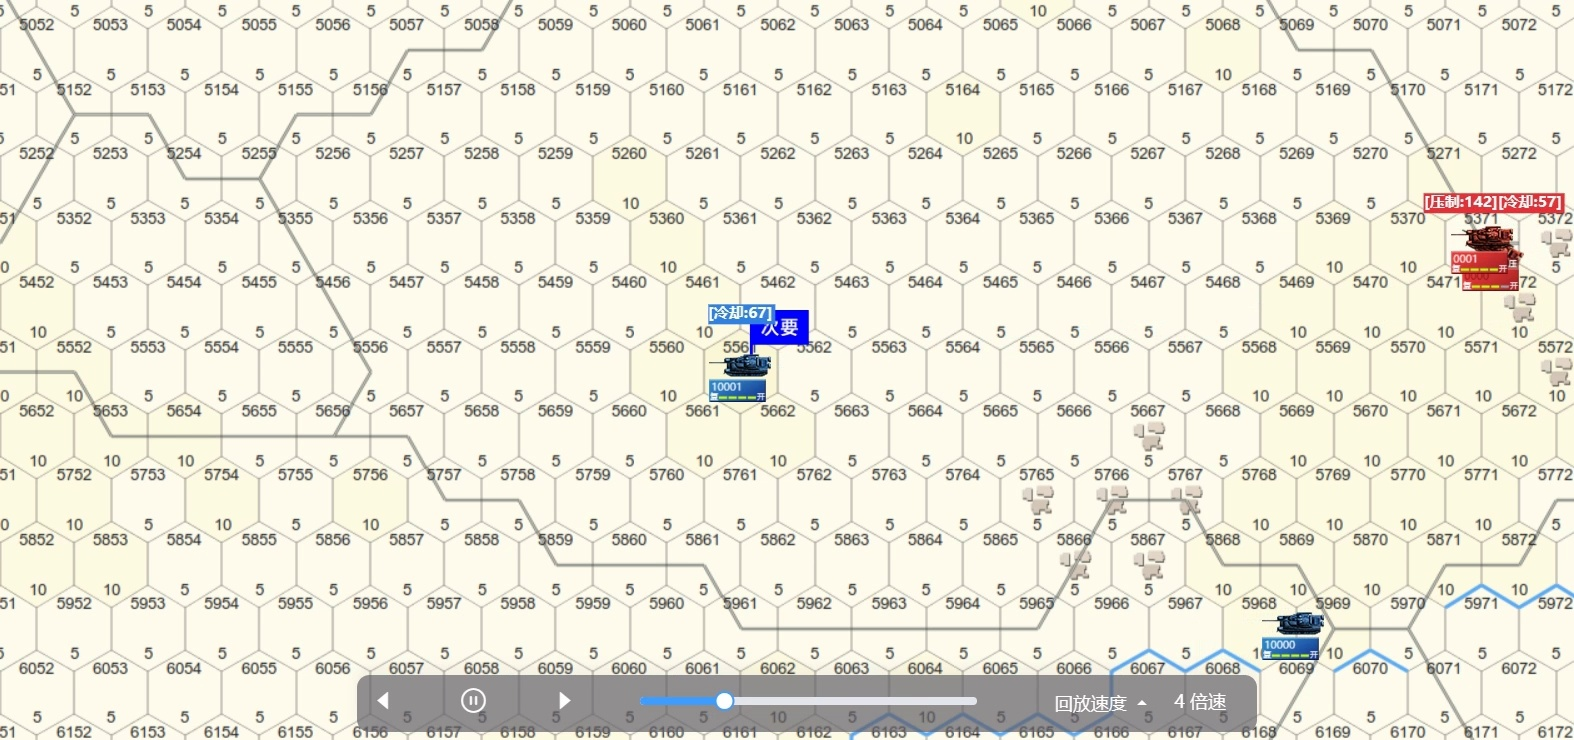blue_tank: (712, 351, 775, 399), (1272, 613, 1324, 656)
red_tank: (1451, 226, 1521, 269), (1459, 255, 1522, 290)
